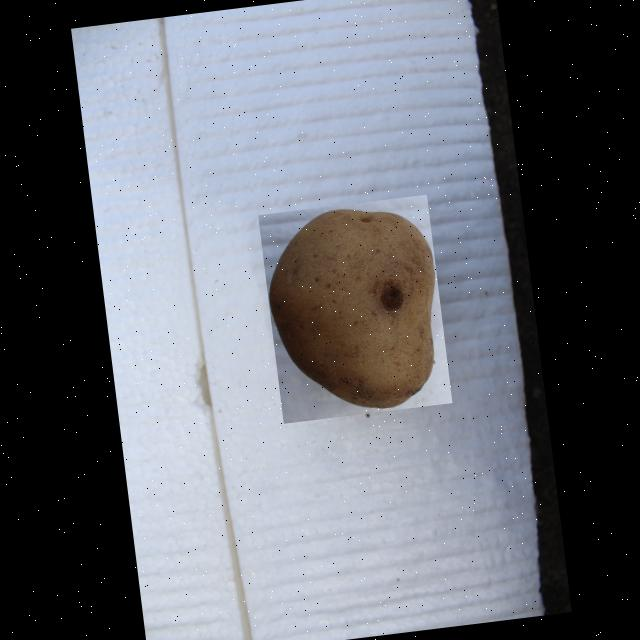Damaged potato: (257, 194, 451, 423)
